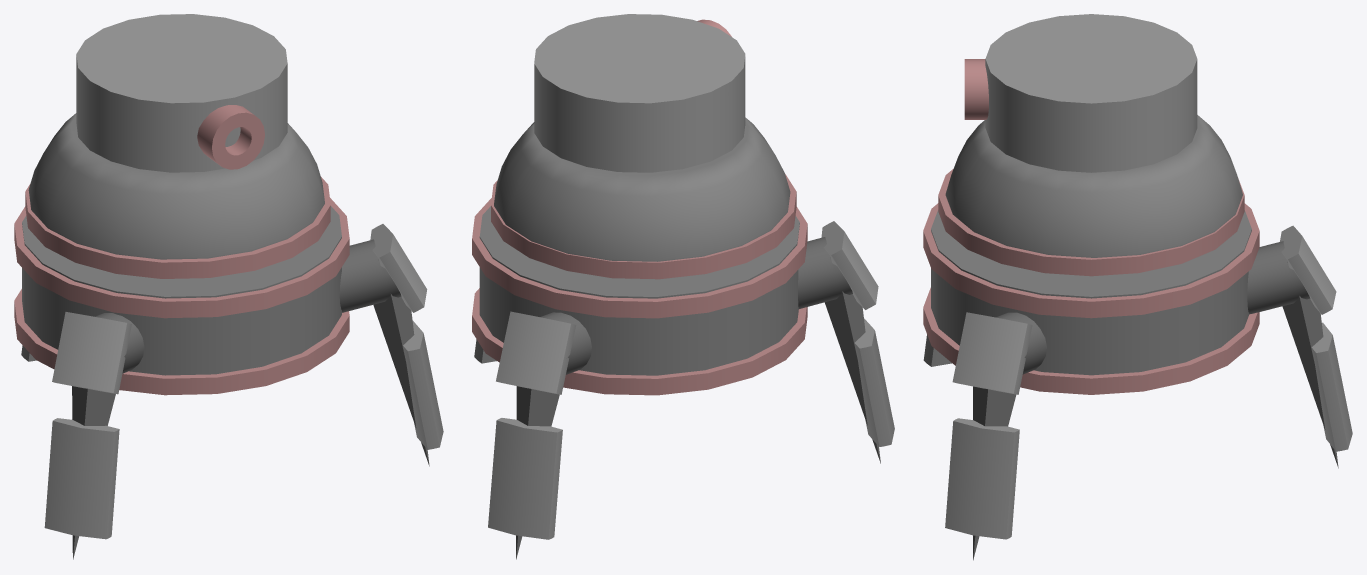
File: scout.fbx
The picture shows the model from 3 angles, left to right: view 1: azimuth 30°, elevation 25°; view 2: azimuth 150°, elevation 25°; view 3: azimuth 270°, elevation 25°; orthographic projection.
Visible parts, largest first — view 1: pCylinder2, pSphere1, pCylinder1, pCube2 (×2), pPipe3, pCube1 (×2), pPipe4, pPipe2, pPyramid1 (×2), pCylinder3 (×2), pPipe1; view 2: pCylinder2, pSphere1, pCylinder1, pCube2 (×2), pPipe3, pCube1 (×2), pPipe2, pPipe4, pPyramid1 (×2), pCylinder3 (×2); view 3: pCylinder2, pSphere1, pCylinder1, pCube2 (×2), pPipe3, pCube1 (×2), pPipe4, pPipe2, pCylinder3 (×2), pPyramid1 (×2), pPipe1.
Boxes of the visible parts, x1,y1,x2,y2 form: pCylinder2: (76, 14, 287, 172); pSphere1: (28, 113, 324, 259); pCylinder1: (22, 206, 341, 375); pCube2 (×2): (44, 321, 443, 539); pPipe3: (14, 198, 349, 318); pCube1 (×2): (52, 224, 427, 394); pPipe4: (25, 177, 330, 278); pPipe2: (14, 289, 349, 395); pPyramid1 (×2): (72, 294, 429, 559); pCylinder3 (×2): (95, 239, 401, 373); pPipe1: (197, 105, 264, 169); pCylinder2: (534, 14, 745, 172); pSphere1: (494, 117, 790, 279); pCylinder1: (479, 206, 799, 375); pCube2 (×2): (488, 318, 894, 539); pPipe3: (472, 198, 807, 318); pCube1 (×2): (496, 221, 878, 394); pPipe2: (472, 288, 807, 395); pPipe4: (491, 174, 796, 279); pPyramid1 (×2): (516, 291, 880, 559); pCylinder3 (×2): (540, 237, 852, 374); pCylinder2: (985, 14, 1197, 172); pSphere1: (945, 115, 1244, 276); pCylinder1: (931, 210, 1251, 375); pCube2 (×2): (945, 322, 1352, 539); pPipe3: (923, 203, 1259, 318); pCube1 (×2): (952, 225, 1336, 394); pPipe4: (938, 169, 1244, 276); pPipe2: (923, 287, 1259, 394); pCylinder3 (×2): (996, 241, 1310, 374); pPyramid1 (×2): (973, 295, 1338, 560); pPipe1: (964, 59, 988, 119).
Bounding box in the file's own units: 3.77 × 3.68 × 3.49.
